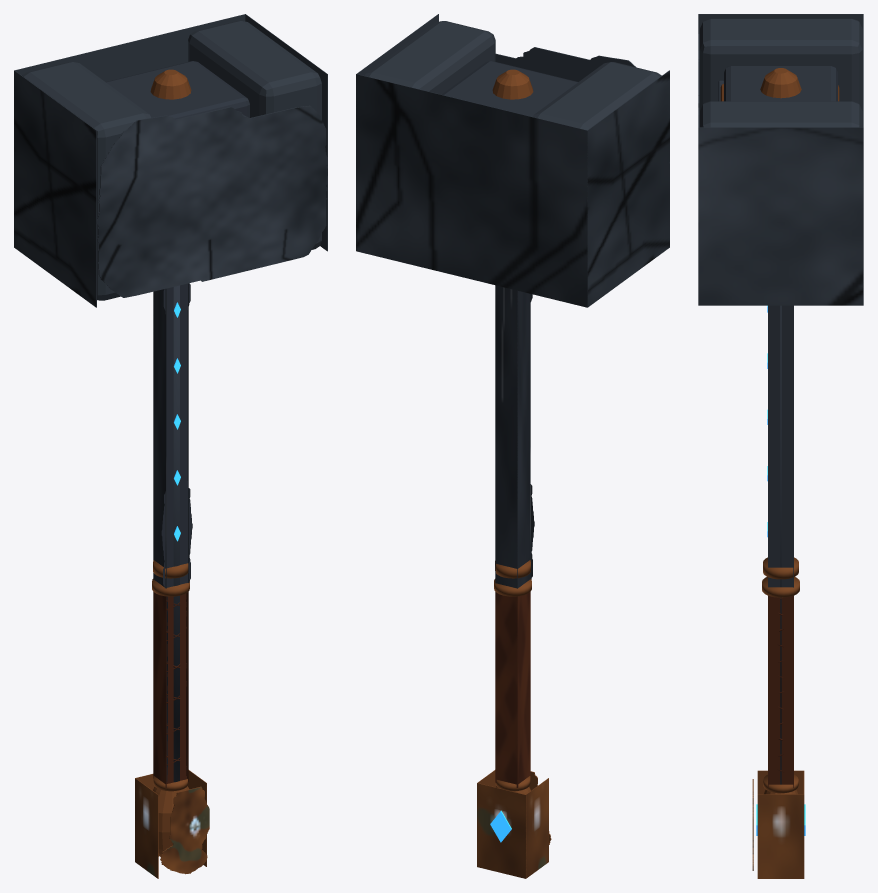
The model's file is SM_DRW_SiegeBreaker_Hammer_A01.fbx.
3 views of the same model, side by side, from view 1: azimuth 30°, elevation 25°; view 2: azimuth 150°, elevation 25°; view 3: azimuth 270°, elevation 25° (orthographic).
Parts seen in each view (by area): view 1: A04_SourceFacade_Head_LOD0, A04_SecondaryFacade_Left_Head_LOD0, Head_Stone_Right_LOD0, A04_SourceFacade_Shaft_LOD0, Head_Stone_Left_LOD0, A04_SecondaryFacade_Back_Head_LOD0, Head_Core_LOD0, A04_SecondaryFacade_Left_Shaft_LOD0, Shaft_Metal_LOD0, A04_SourceFacade_Pommel_LOD0, A04_SecondaryFacade_Left_Grip_LOD0, A04_SourceFacade_Grip_LOD0 (+4 smaller); view 2: A04_SecondaryFacade_Back_Head_LOD0, A04_SecondaryFacade_Left_Head_LOD0, A04_SecondaryFacade_Back_Shaft_LOD0, Head_Stone_Right_LOD0, A04_SecondaryFacade_Back_Grip_LOD0, Head_Stone_Left_LOD0, A04_SecondaryFacade_Left_Shaft_LOD0, A04_SecondaryFacade_Back_Pommel_LOD0, Head_Core_LOD0, A04_SecondaryFacade_Left_Grip_LOD0, A04_SourceFacade_Head_LOD0, A04_SecondaryFacade_Left_Pommel_LOD0 (+2 smaller); view 3: A04_SecondaryFacade_Right_Head_LOD0, Head_Stone_Left_LOD0, A04_SecondaryFacade_Right_Shaft_LOD0, A04_SecondaryFacade_Right_Grip_LOD0, Head_Stone_Right_LOD0, A04_SecondaryFacade_Right_Pommel_LOD0, Head_Core_LOD0, A04_SecondaryFacade_Left_Head_LOD0, Head_CrownFinial_LOD0, Shaft_Metal_LOD0, Shaft_Collar_02_LOD0, Shaft_Collar_01_LOD0 (+2 smaller).
Boxes of the visible parts, box(x1,y1,x2,y2) form: A04_SourceFacade_Head_LOD0: box(96, 105, 327, 297); A04_SecondaryFacade_Left_Head_LOD0: box(14, 70, 96, 307); Head_Stone_Right_LOD0: box(188, 21, 321, 249); A04_SourceFacade_Shaft_LOD0: box(161, 283, 192, 588); Head_Stone_Left_LOD0: box(22, 62, 151, 300); A04_SecondaryFacade_Back_Head_LOD0: box(14, 14, 245, 246); Head_Core_LOD0: box(106, 61, 249, 119); A04_SecondaryFacade_Left_Shaft_LOD0: box(153, 288, 166, 588); Shaft_Metal_LOD0: box(166, 285, 179, 782); A04_SourceFacade_Pommel_LOD0: box(160, 786, 209, 874); A04_SecondaryFacade_Left_Grip_LOD0: box(153, 592, 166, 787); A04_SourceFacade_Grip_LOD0: box(166, 593, 187, 783); A04_SecondaryFacade_Back_Head_LOD0: box(356, 74, 587, 307); A04_SecondaryFacade_Left_Head_LOD0: box(587, 70, 669, 307); A04_SecondaryFacade_Back_Shaft_LOD0: box(495, 285, 517, 588); Head_Stone_Right_LOD0: box(364, 21, 495, 94); A04_SecondaryFacade_Back_Grip_LOD0: box(495, 592, 517, 787); Head_Stone_Left_LOD0: box(533, 62, 661, 130); A04_SecondaryFacade_Left_Shaft_LOD0: box(517, 291, 530, 588); A04_SecondaryFacade_Back_Pommel_LOD0: box(477, 783, 526, 878); Head_Core_LOD0: box(441, 61, 577, 116); A04_SecondaryFacade_Left_Grip_LOD0: box(517, 592, 530, 787); A04_SourceFacade_Head_LOD0: box(495, 47, 669, 163); A04_SecondaryFacade_Left_Pommel_LOD0: box(525, 778, 548, 878); A04_SecondaryFacade_Right_Head_LOD0: box(698, 127, 863, 305); Head_Stone_Left_LOD0: box(700, 18, 862, 110); A04_SecondaryFacade_Right_Shaft_LOD0: box(768, 305, 793, 587); A04_SecondaryFacade_Right_Grip_LOD0: box(768, 596, 793, 787); Head_Stone_Right_LOD0: box(700, 101, 862, 127); A04_SecondaryFacade_Right_Pommel_LOD0: box(757, 794, 804, 878); Head_Core_LOD0: box(724, 66, 837, 101); A04_SecondaryFacade_Left_Head_LOD0: box(698, 14, 862, 127); Head_CrownFinial_LOD0: box(760, 68, 801, 98); Shaft_Metal_LOD0: box(780, 305, 781, 784); Shaft_Collar_02_LOD0: box(763, 557, 798, 579); Shaft_Collar_01_LOD0: box(762, 577, 799, 597).
Size of what is drawn, in the model's own units: 0.52 by 0.32 by 1.7.
